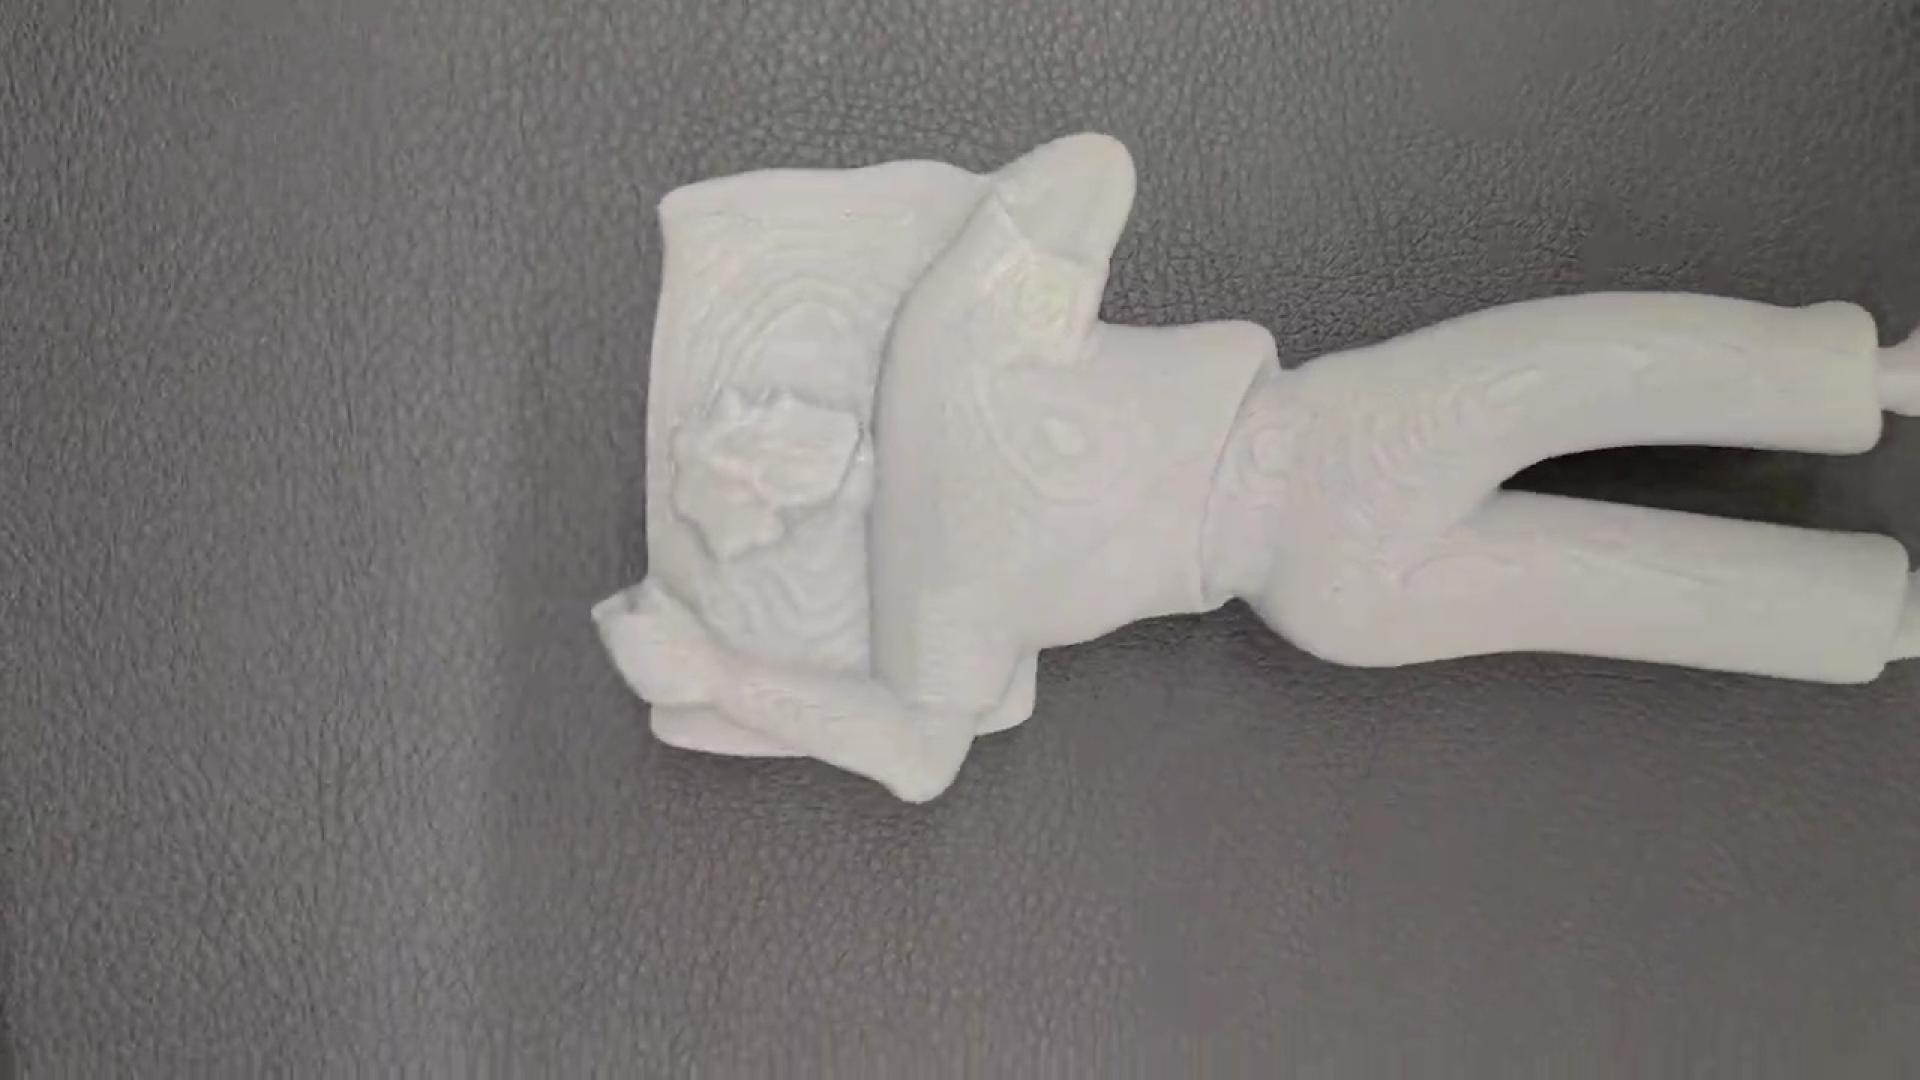Bad-style: (588, 135, 1920, 806)
